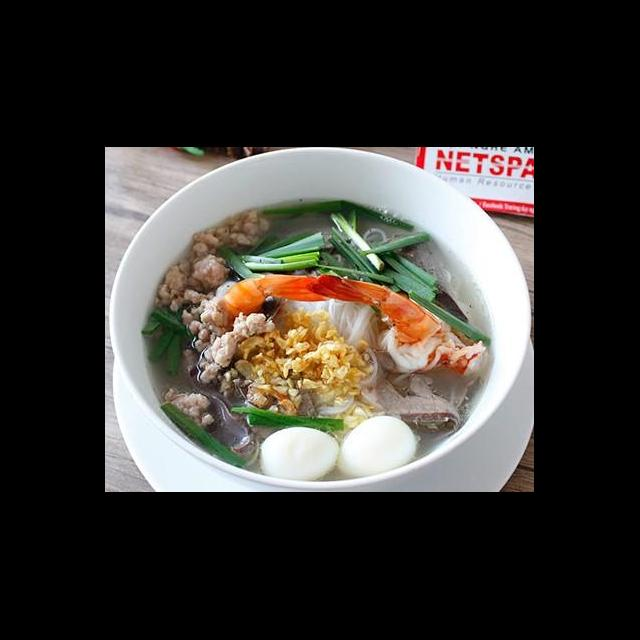gan: (378, 226, 472, 330)
hu tieu: (280, 288, 382, 418)
thit bam: (152, 204, 276, 318), (174, 294, 278, 388), (160, 384, 218, 436)
thit heo: (354, 346, 466, 444)
tom: (310, 268, 490, 386), (216, 270, 344, 336)
trung: (334, 412, 422, 479), (253, 422, 344, 484)
